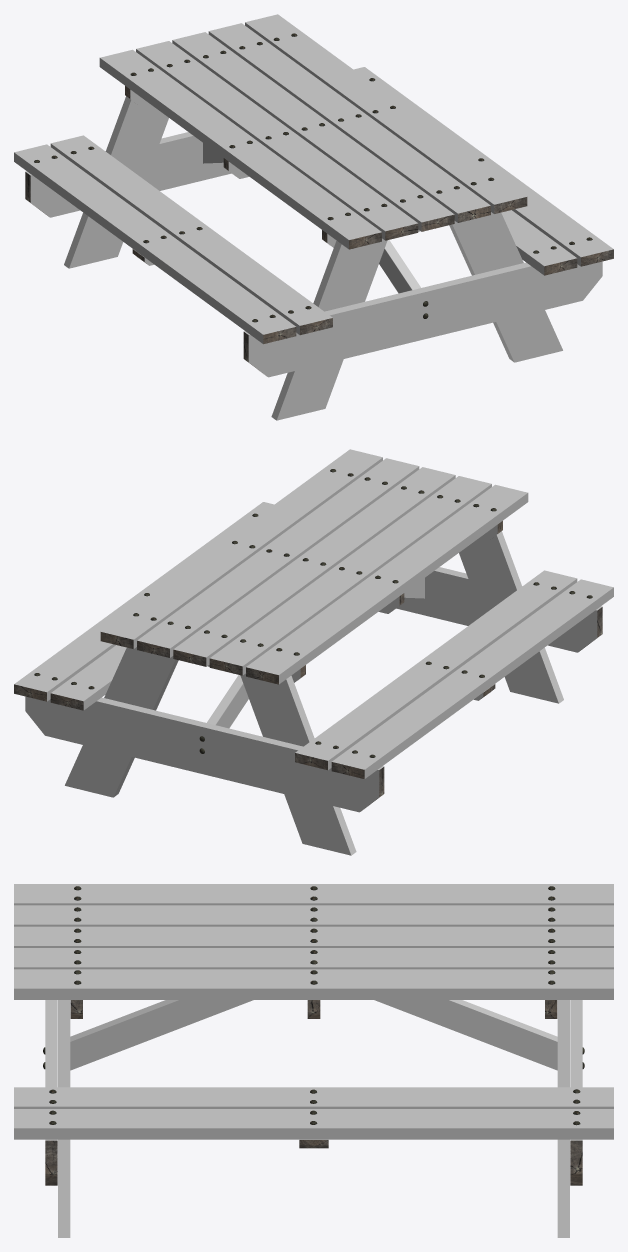
File: Picnic_Table.fbx
3 views of the same model, one above another, from view 1: azimuth 30°, elevation 25°; view 2: azimuth 150°, elevation 25°; view 3: azimuth 270°, elevation 25° (orthographic). The views are drawn at different scales.
Parts seen in each view (by area): view 1: Picnic Table; view 2: Picnic Table; view 3: Picnic Table.
Part boxes in pixels (left/top/right/bottom): Picnic Table: left=14, top=14, right=613, bottom=420; Picnic Table: left=14, top=449, right=613, bottom=855; Picnic Table: left=14, top=884, right=613, bottom=1237.
Bounding box in the file's own units: 150 × 73.78 × 183.
